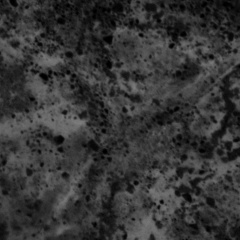Vegetation: (2, 135, 240, 240), (117, 28, 240, 138), (3, 33, 80, 111), (2, 112, 86, 133), (1, 7, 38, 34), (84, 67, 116, 97)
